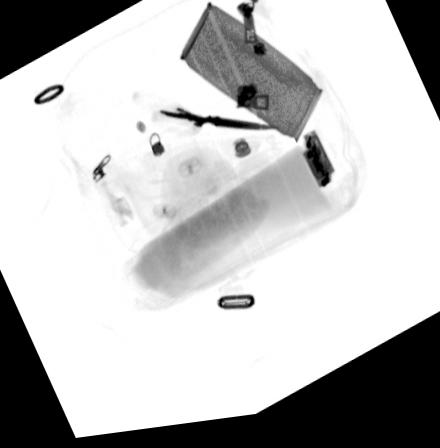Scissors: (130, 95, 279, 141)
